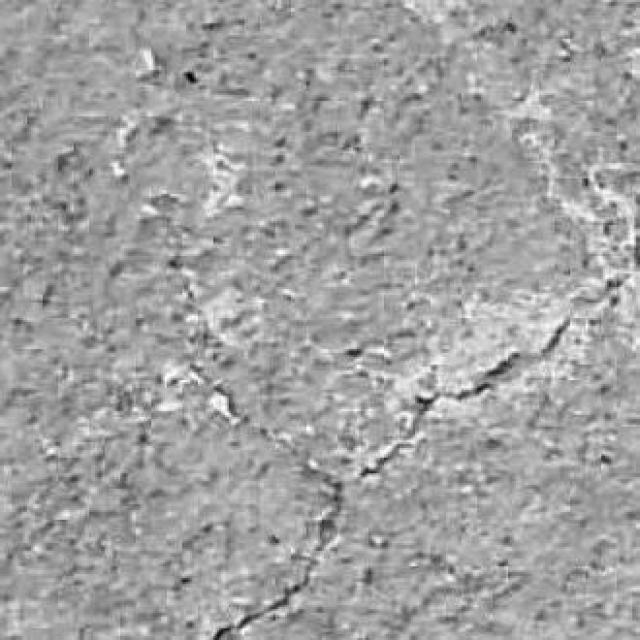crack: (355, 317, 572, 479), (212, 427, 345, 639), (212, 464, 343, 639)
